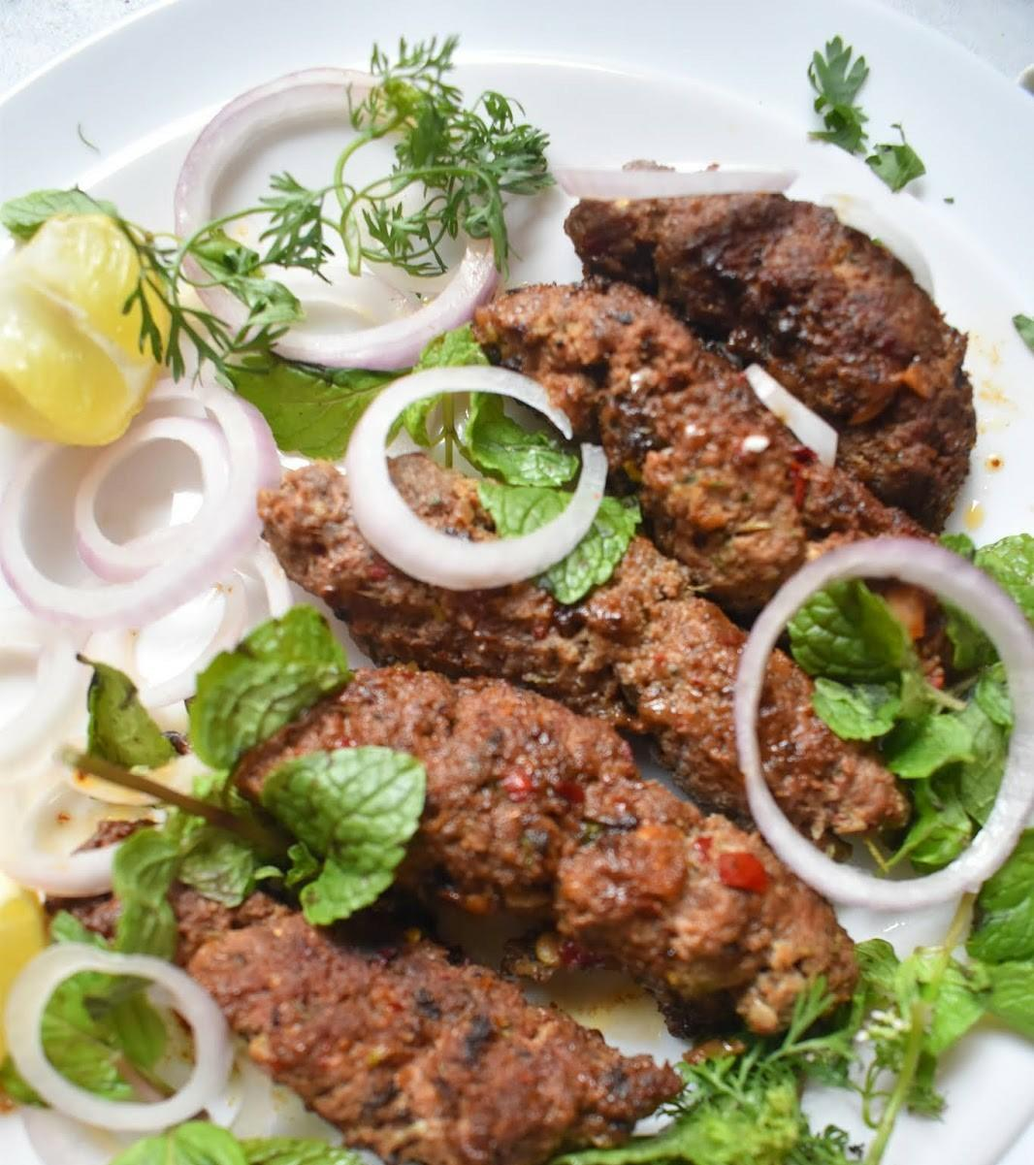Kebab: (257, 453, 908, 841), (232, 670, 866, 1044), (49, 821, 680, 1161), (471, 283, 930, 629), (557, 193, 980, 514)
